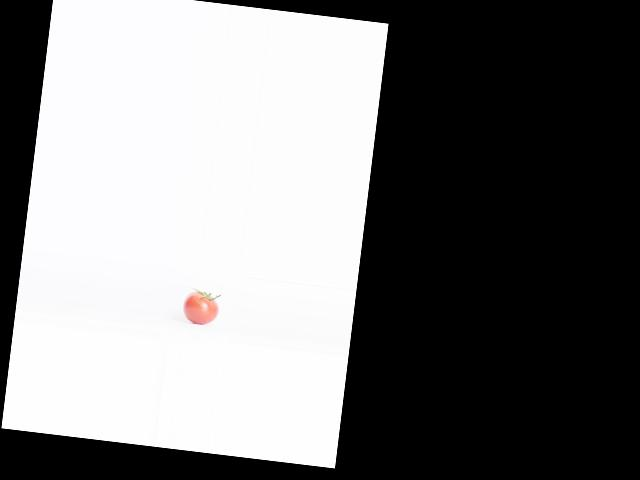tomato: (180, 290, 220, 326)
